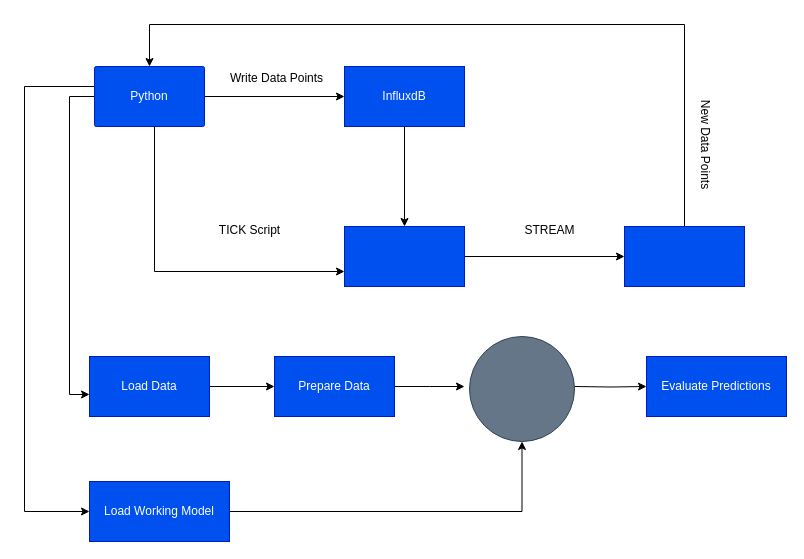
The diagram is 804 pixels wide and 559 high, and some of its shapes have lost their labels. The centre of each missing label's shape, as x and y in pixels:
HTTPOUT: point 684,256
Kapacitor: point 404,256
Predict Anomalies: point 521,389
